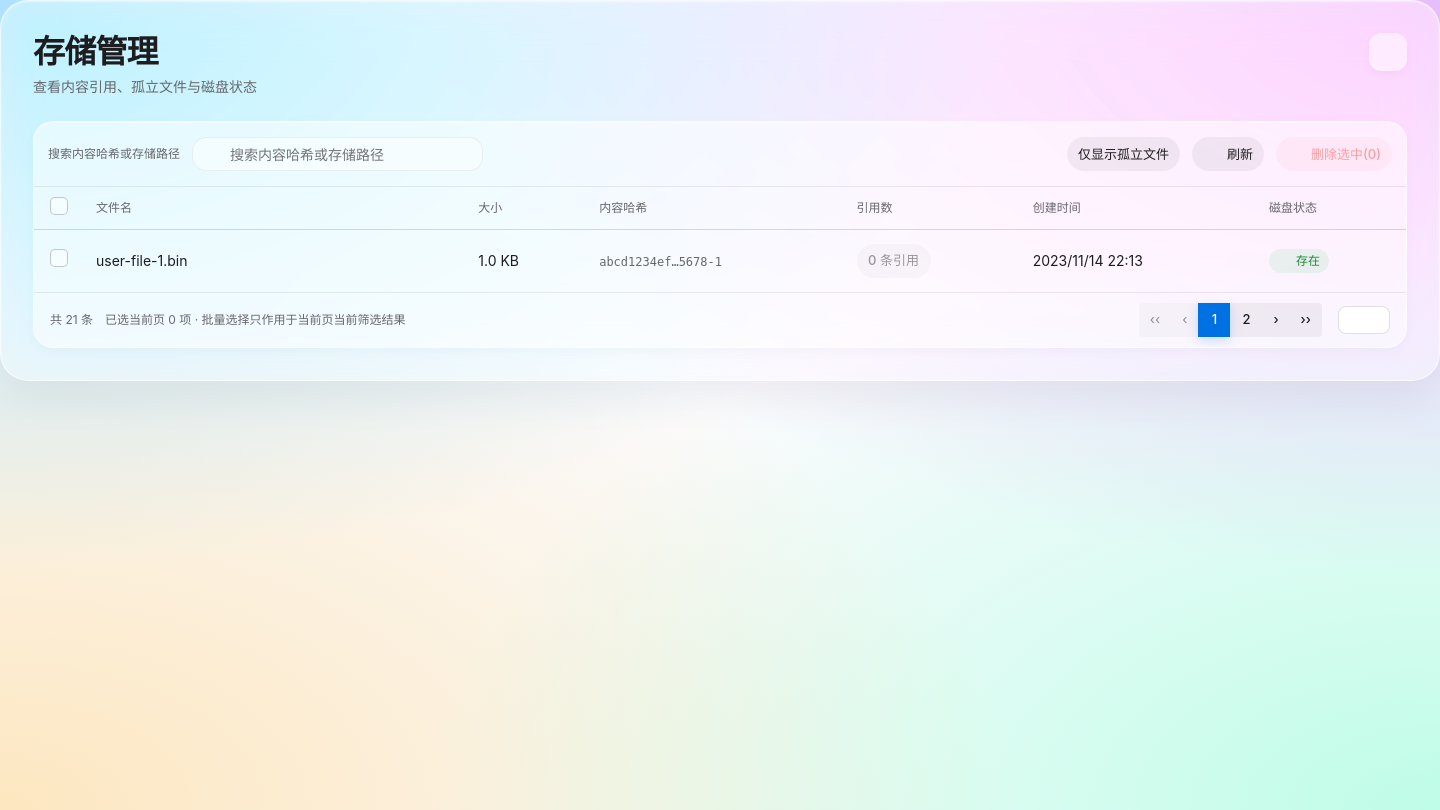
Test: StoragePage Demo 列表与筛选 › 孤立筛选同步吸收待防抖关键词且只发一笔请求
Expected: the row with test id "storage-row-1" is shown, [34,229,1406,292]
Click the button named "下一页". click: (1276,320)
box: [1262,303,1290,337]
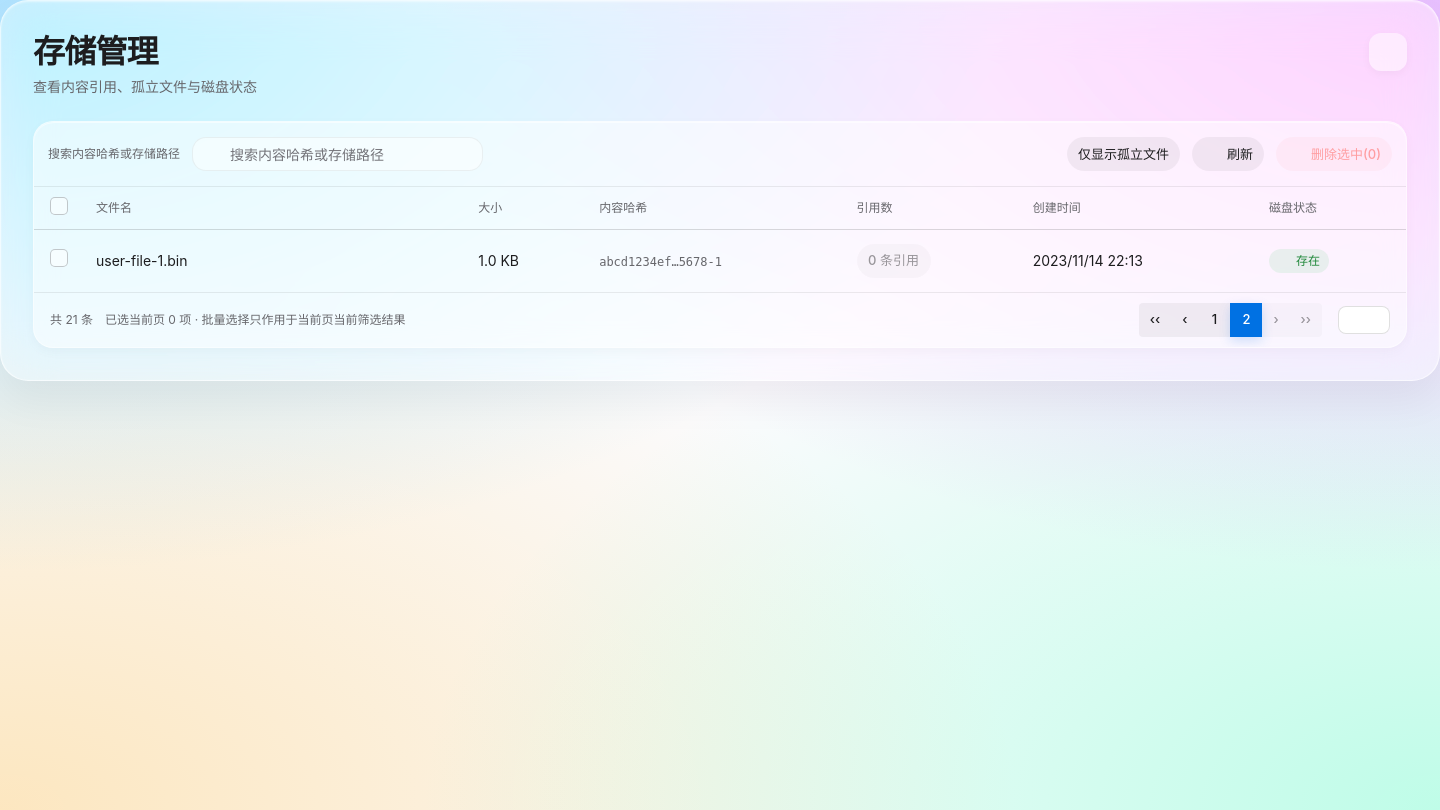
Expected: the row with test id "storage-row-1" is shown, [34,229,1406,292]
Type "abcd1234" into the search field labelled "搜索内容哈希或存储路径". click: (338,154)
box: [192,137,483,171]
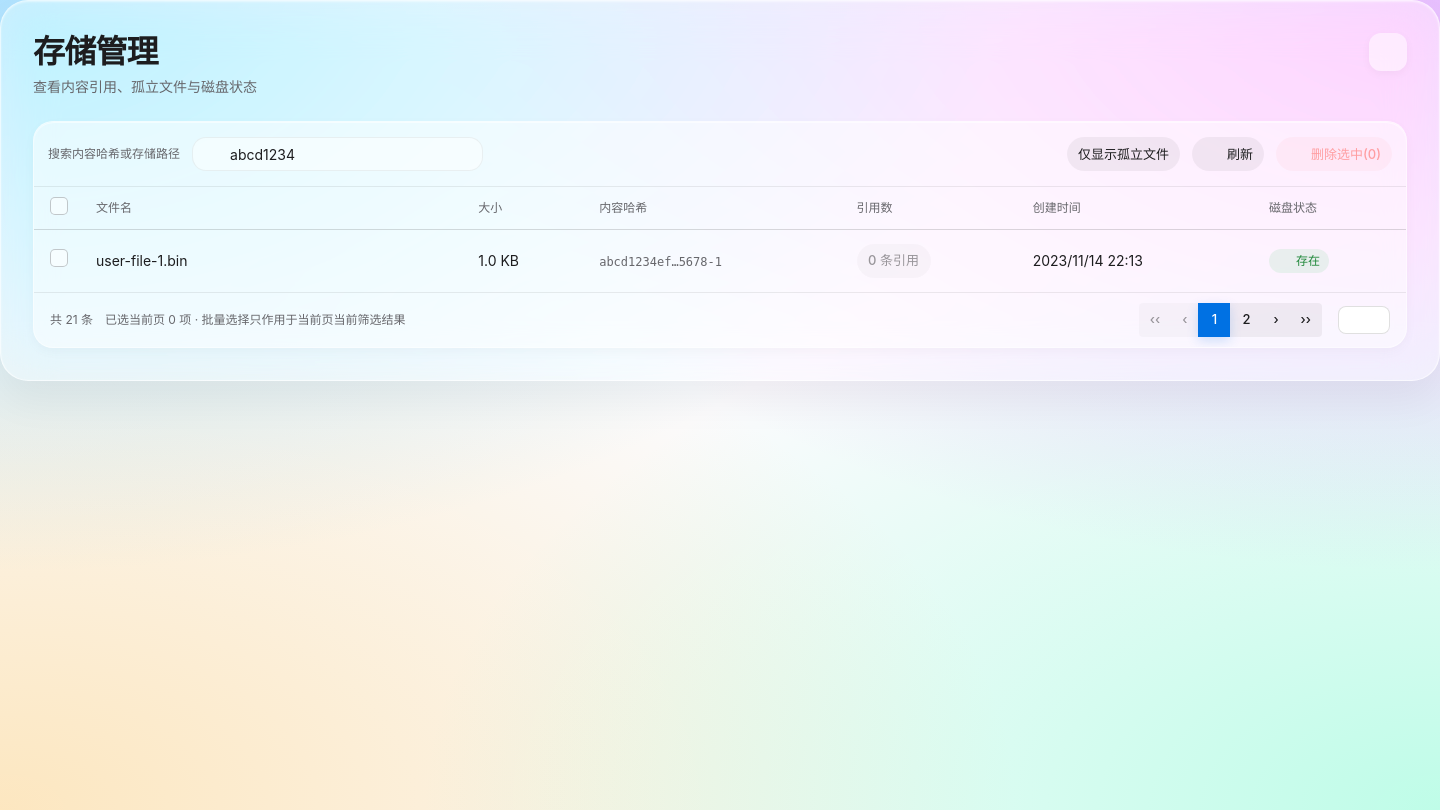
Click the button "仅显示孤立文件". click: (1124,154)
box: [1067,137,1180,171]
Wait 400 ms
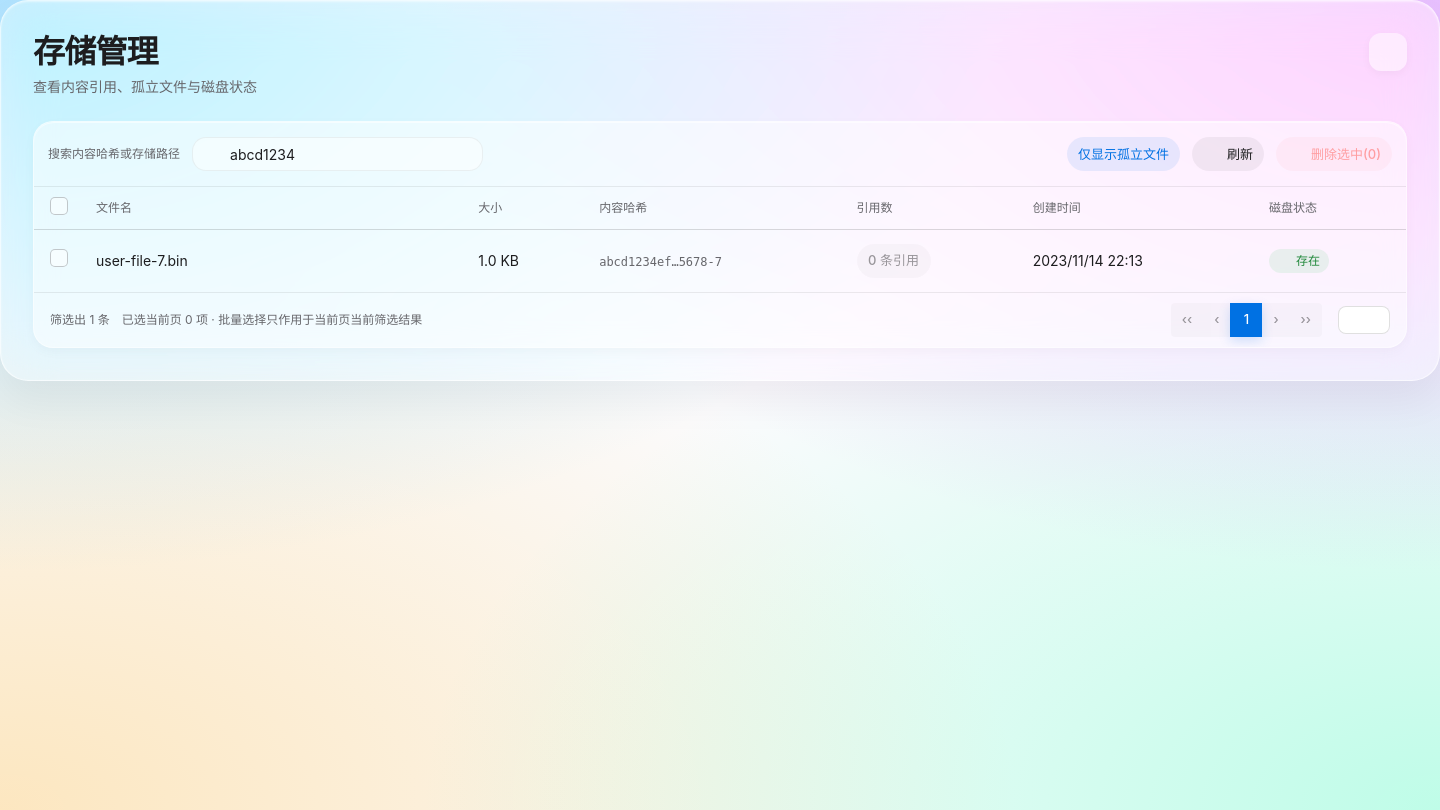
Now the row with test id "storage-row-7" is shown, box [34,229,1406,292]
Now the text "筛选出 1 条" is shown, box [50,311,110,329]
